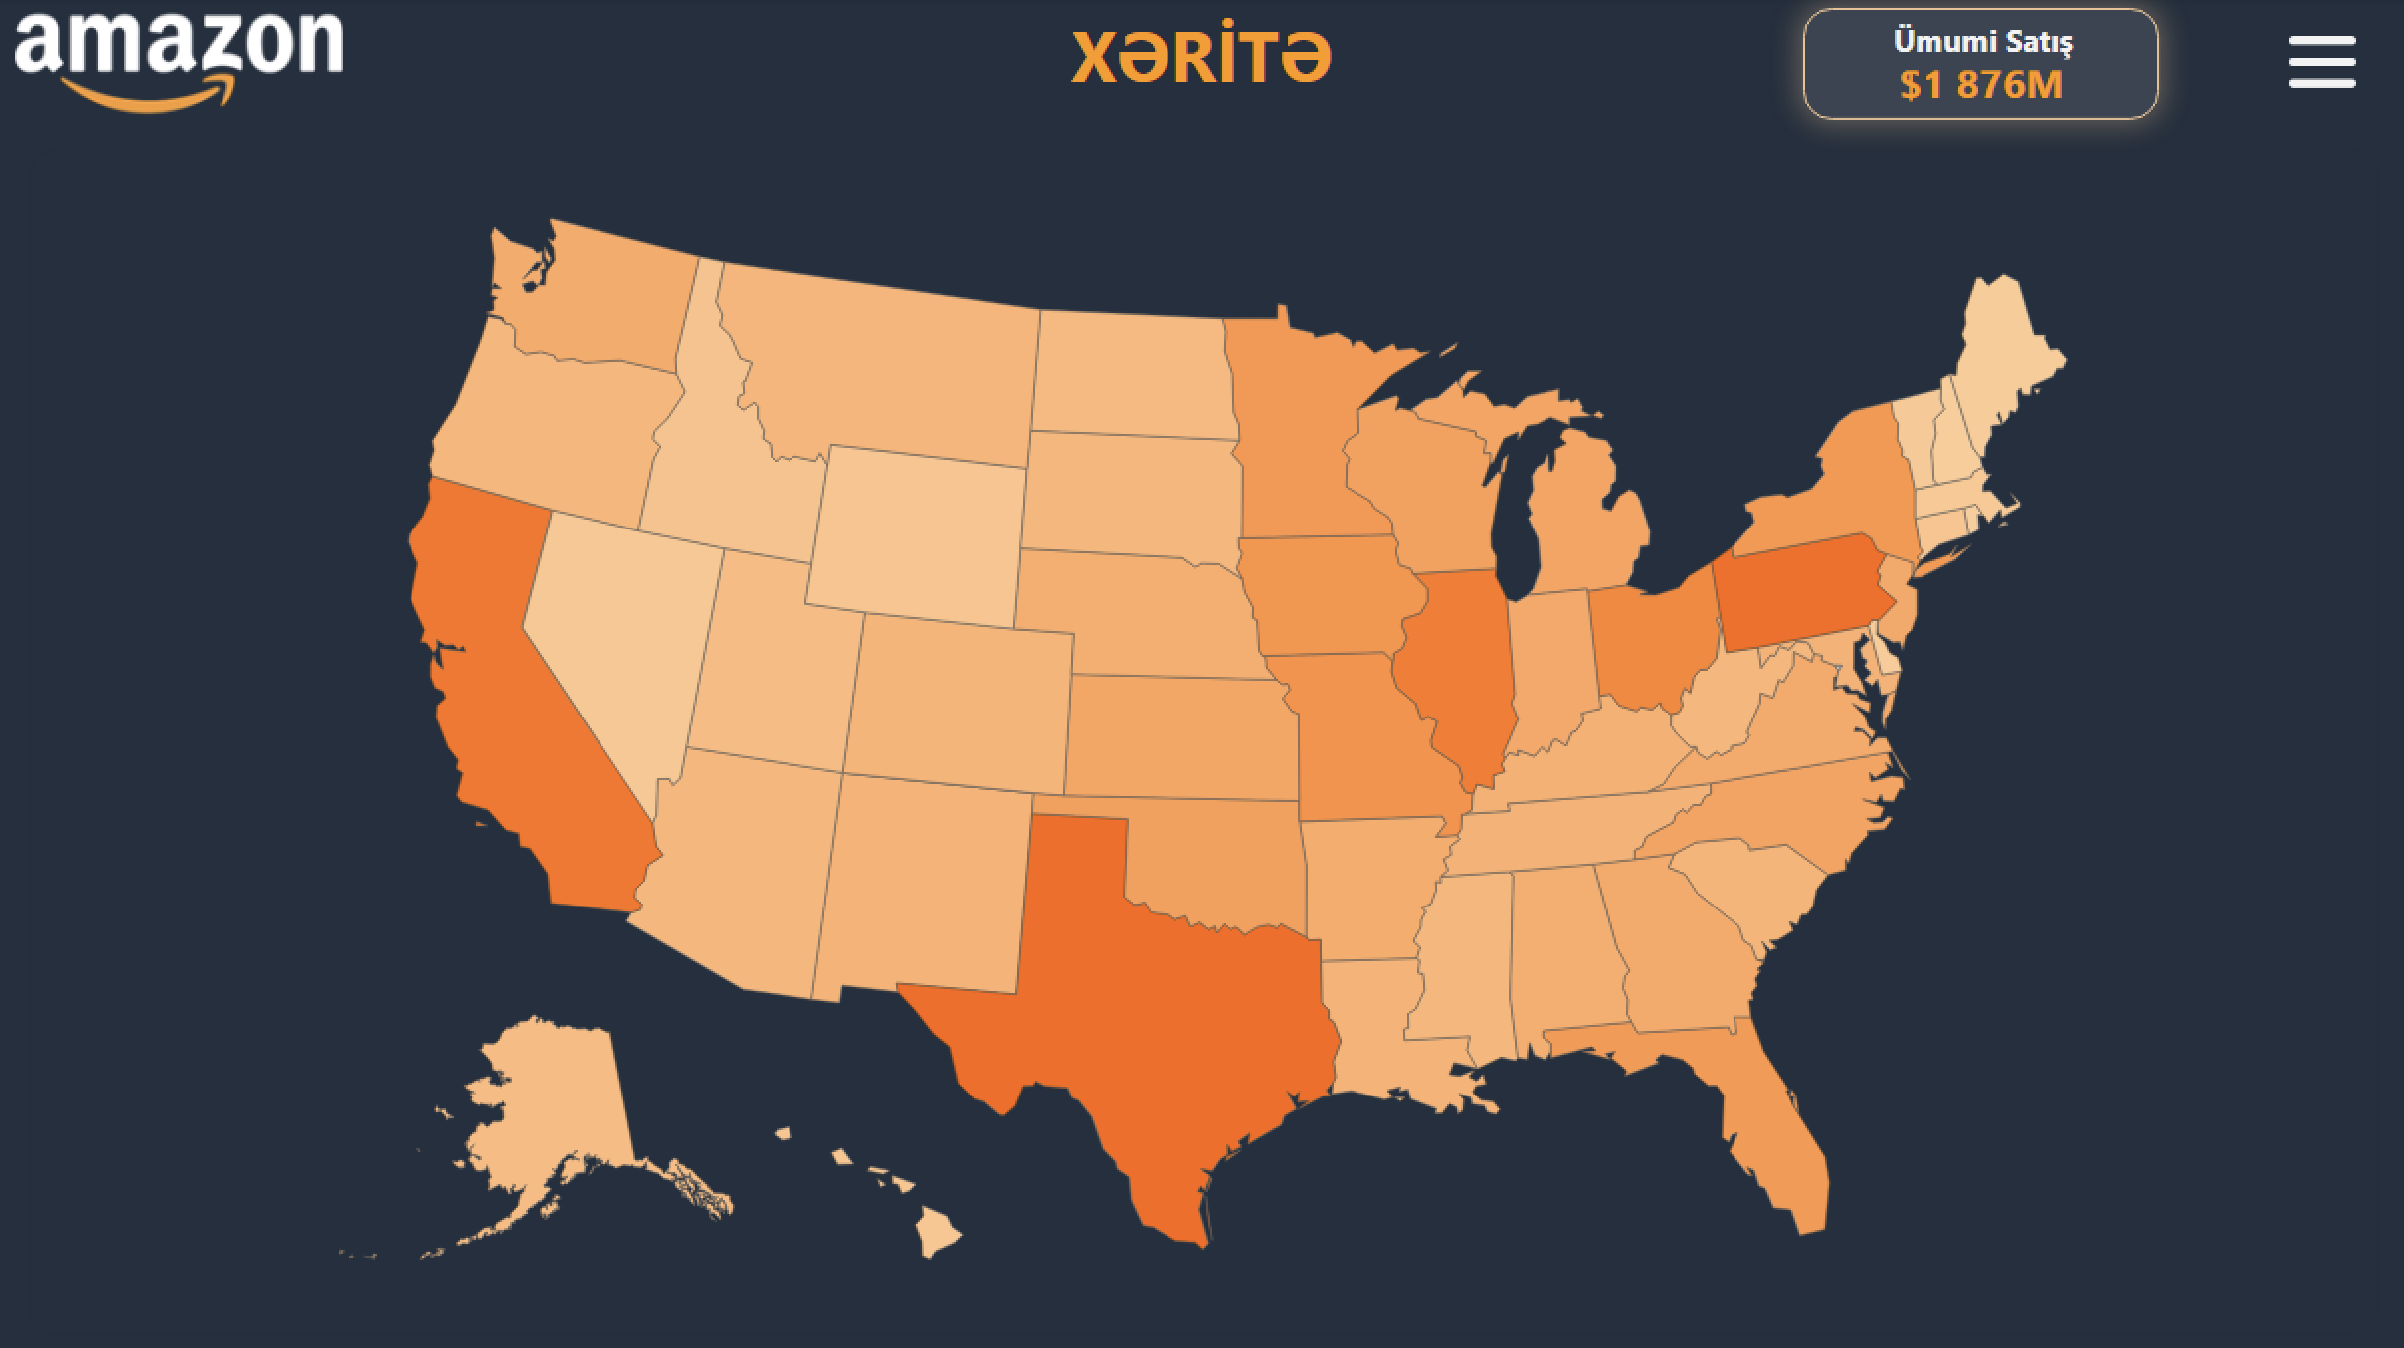

This screenshot's page, from the dashboard's own definition file:
{"tool":"powerbi","page":{"name":"Xəritə","canvas":[1280,720],"ordinal":2},"visuals":[{"type":"image","box":[1215,15,40.4,40.4],"z":0},{"type":"shape","box":[0,0,191.5,61.9],"z":1000},{"type":"textbox","box":[450.9,0,379.5,60.7],"z":2000},{"type":"shapeMap","fields":{"Category":["Amazon_city.Ştat"],"Value":["DAX table.Ümumi Satış"]},"box":[17.8,80.9,1246.7,630.5],"z":3000},{"type":"card","title":"Ümumi Satış","fields":{"Values":["DAX table.Ümumi Satış"]},"box":[960,5.9,189.1,59.5],"z":5000}]}

Visuals, with their boxes in screenshot pixels (x1, y1, x2, y2), scaled from the page's 1280x720 canvas onto the 2404x1348 screenshot:
image: crop(2282, 28, 2358, 104)
shape: crop(0, 0, 360, 116)
textbox: crop(847, 0, 1560, 114)
shapeMap - Amazon_city.Ştat x DAX table.Ümumi Satış: crop(33, 151, 2375, 1332)
"Ümumi Satış" card: crop(1803, 11, 2158, 122)
